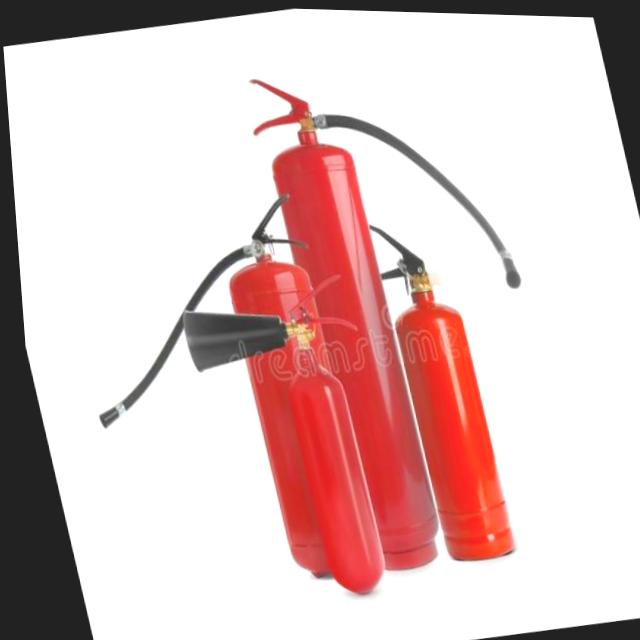FireExtinguisher: (233, 34, 583, 582), (42, 178, 384, 616), (163, 256, 418, 619), (344, 204, 534, 573)
